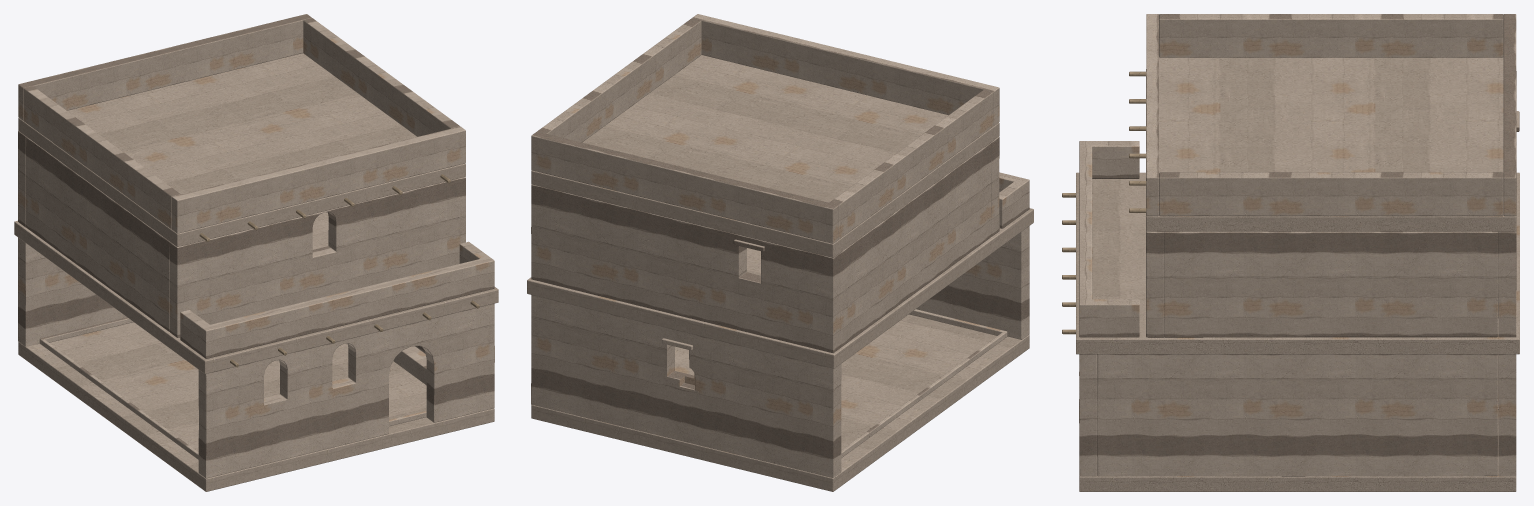
The model's file is house_14.glb.
The picture shows the model from 3 angles, left to right: view 1: azimuth 30°, elevation 25°; view 2: azimuth 150°, elevation 25°; view 3: azimuth 270°, elevation 25°; orthographic projection. The views are drawn at different scales.
Parts seen in each view (by area): view 1: house; view 2: house; view 3: house.
Boxes of the visible parts, <box> form: house: <box>14,14,498,491</box>; house: <box>527,14,1033,491</box>; house: <box>1062,14,1519,491</box>.
Size of the model in its own units: 9.17 by 8.07 by 10.64.
Materials: 3 (3 with a texture image).
